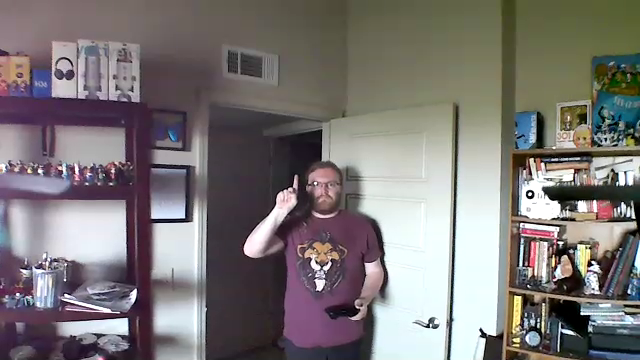up: (275, 172, 303, 211)
